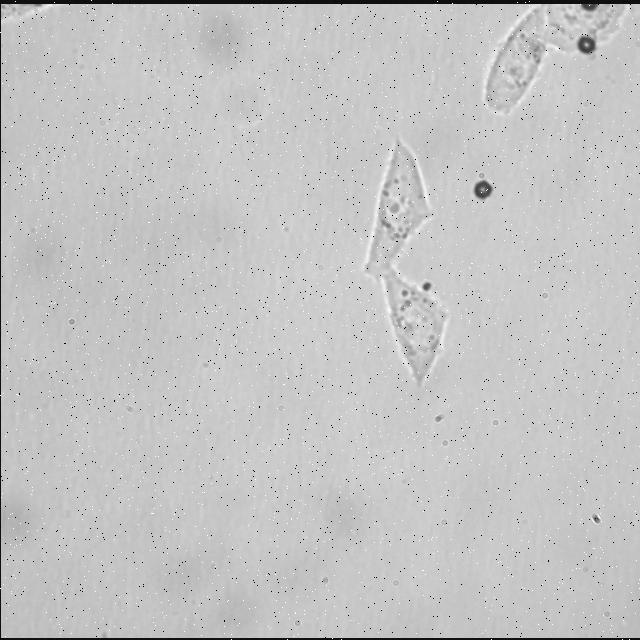microbeads: (469, 178, 491, 198), (578, 36, 594, 52), (578, 2, 594, 14)
